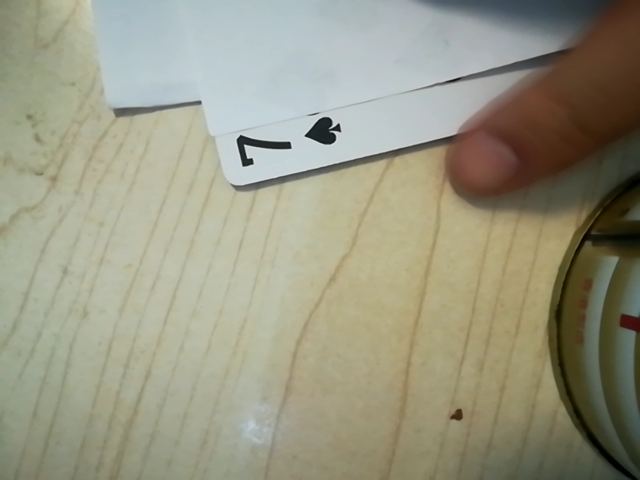ht 7: (222, 106, 356, 183)
